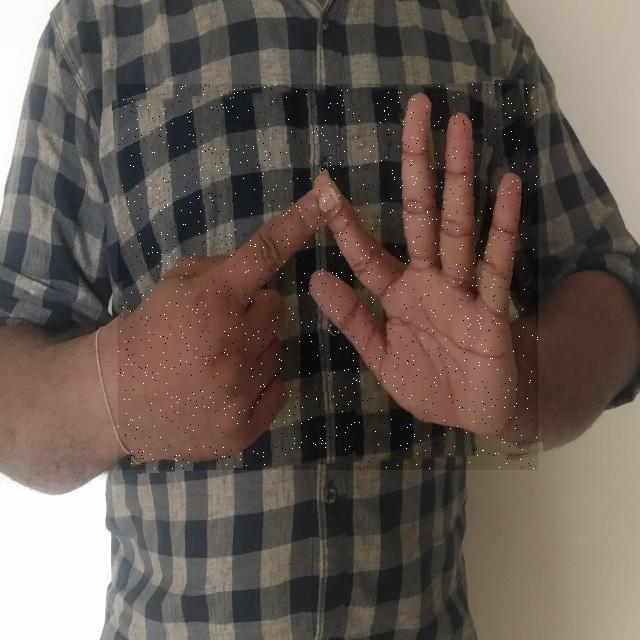E: (118, 84, 538, 470)
